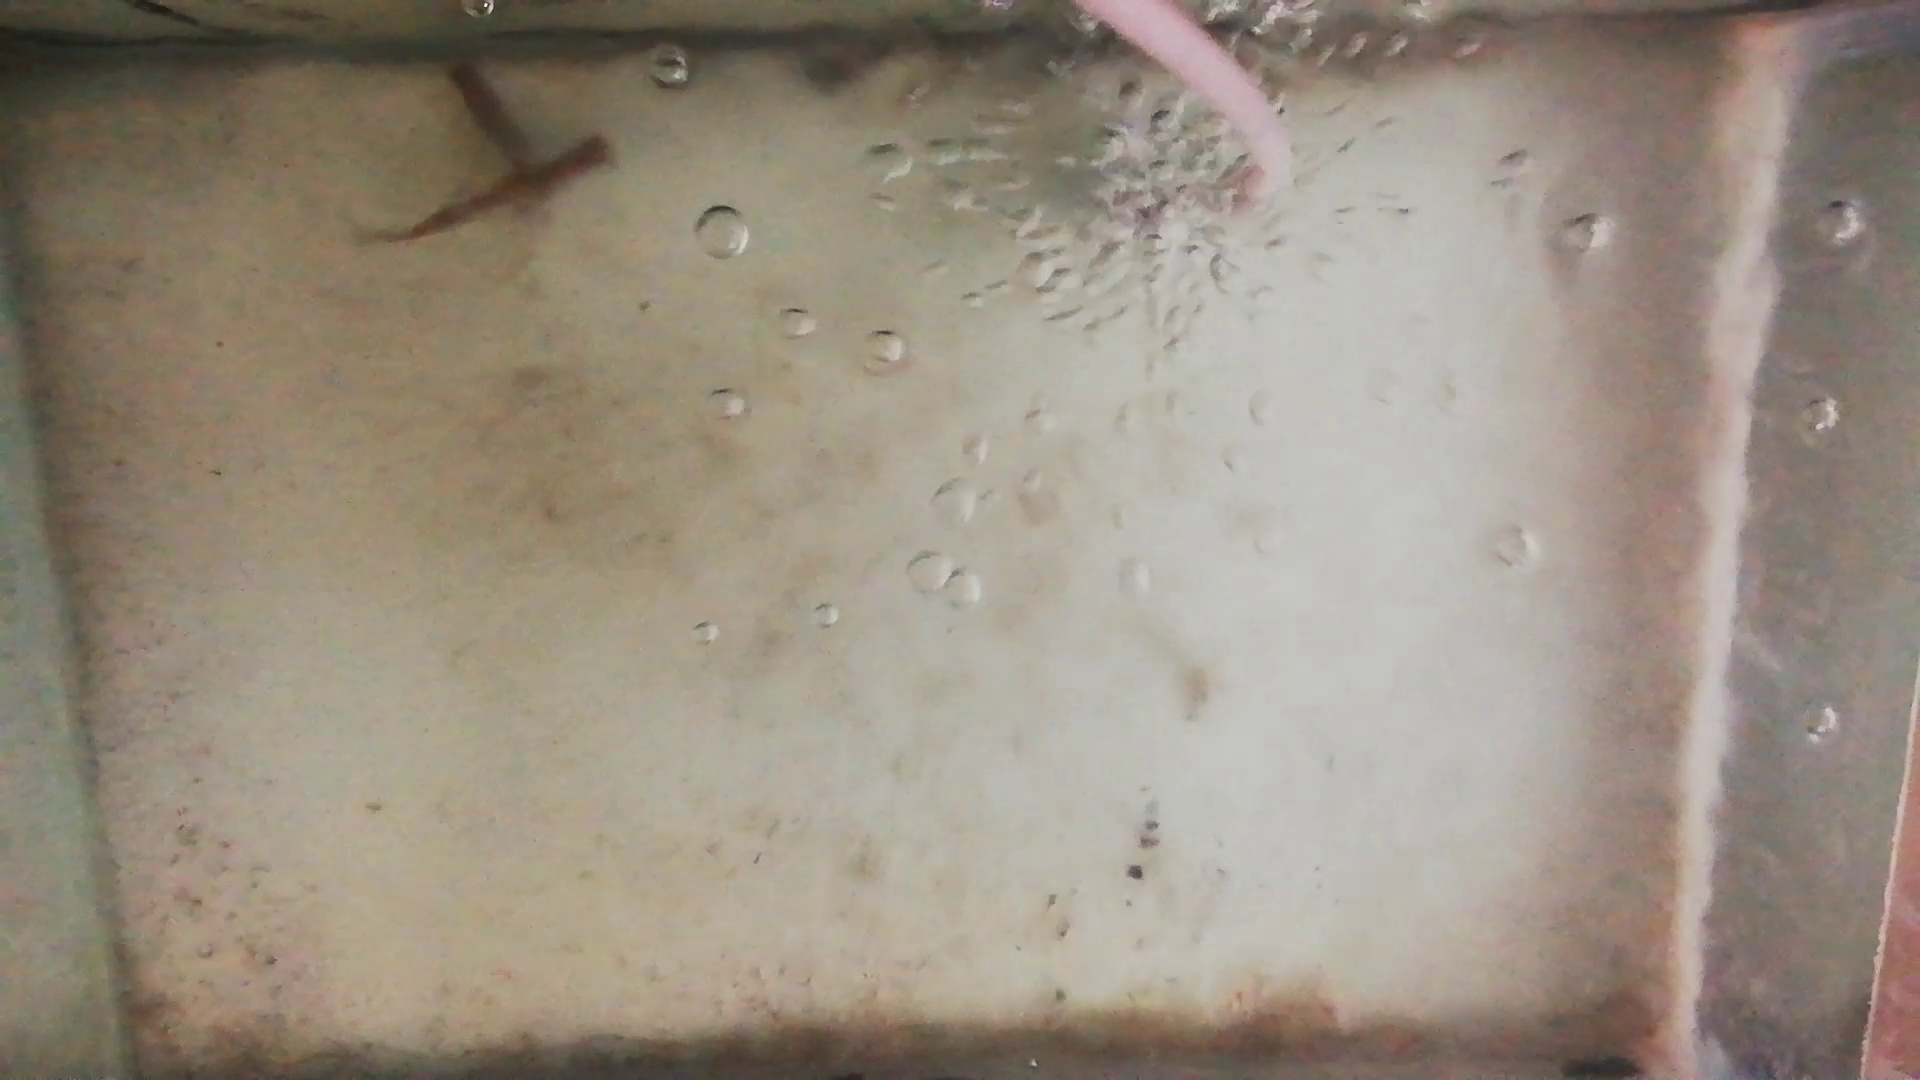fish: (396, 138, 616, 243), (448, 63, 531, 175)
